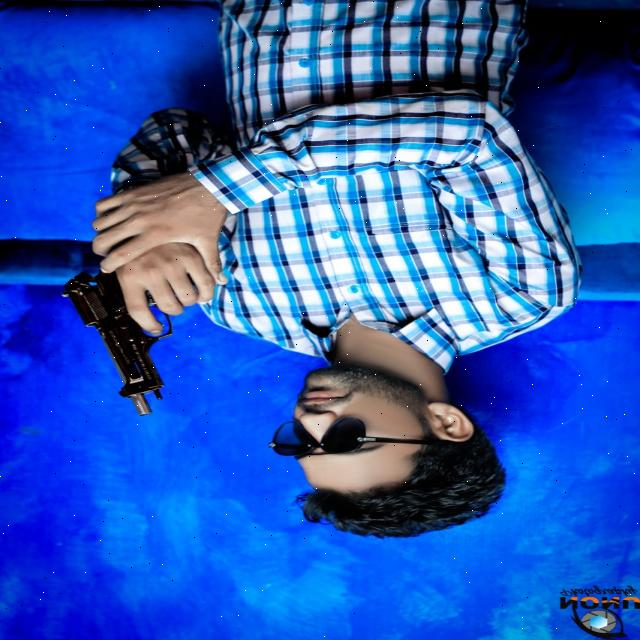gun: (55, 241, 219, 419)
